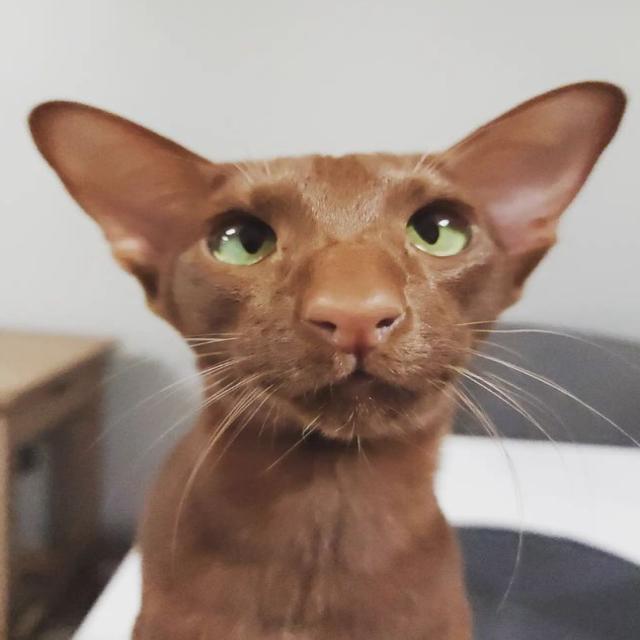Oriental: (26, 78, 630, 640)
